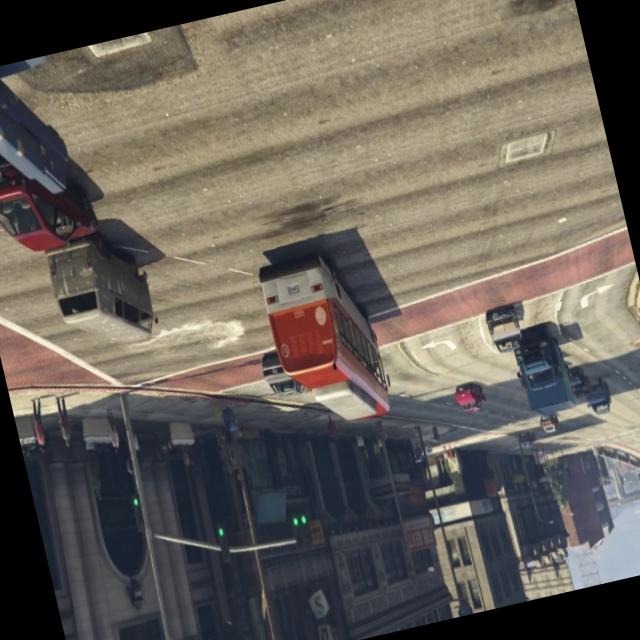Green-Signal: (276, 484, 322, 566), (116, 473, 156, 543), (203, 505, 237, 573)
